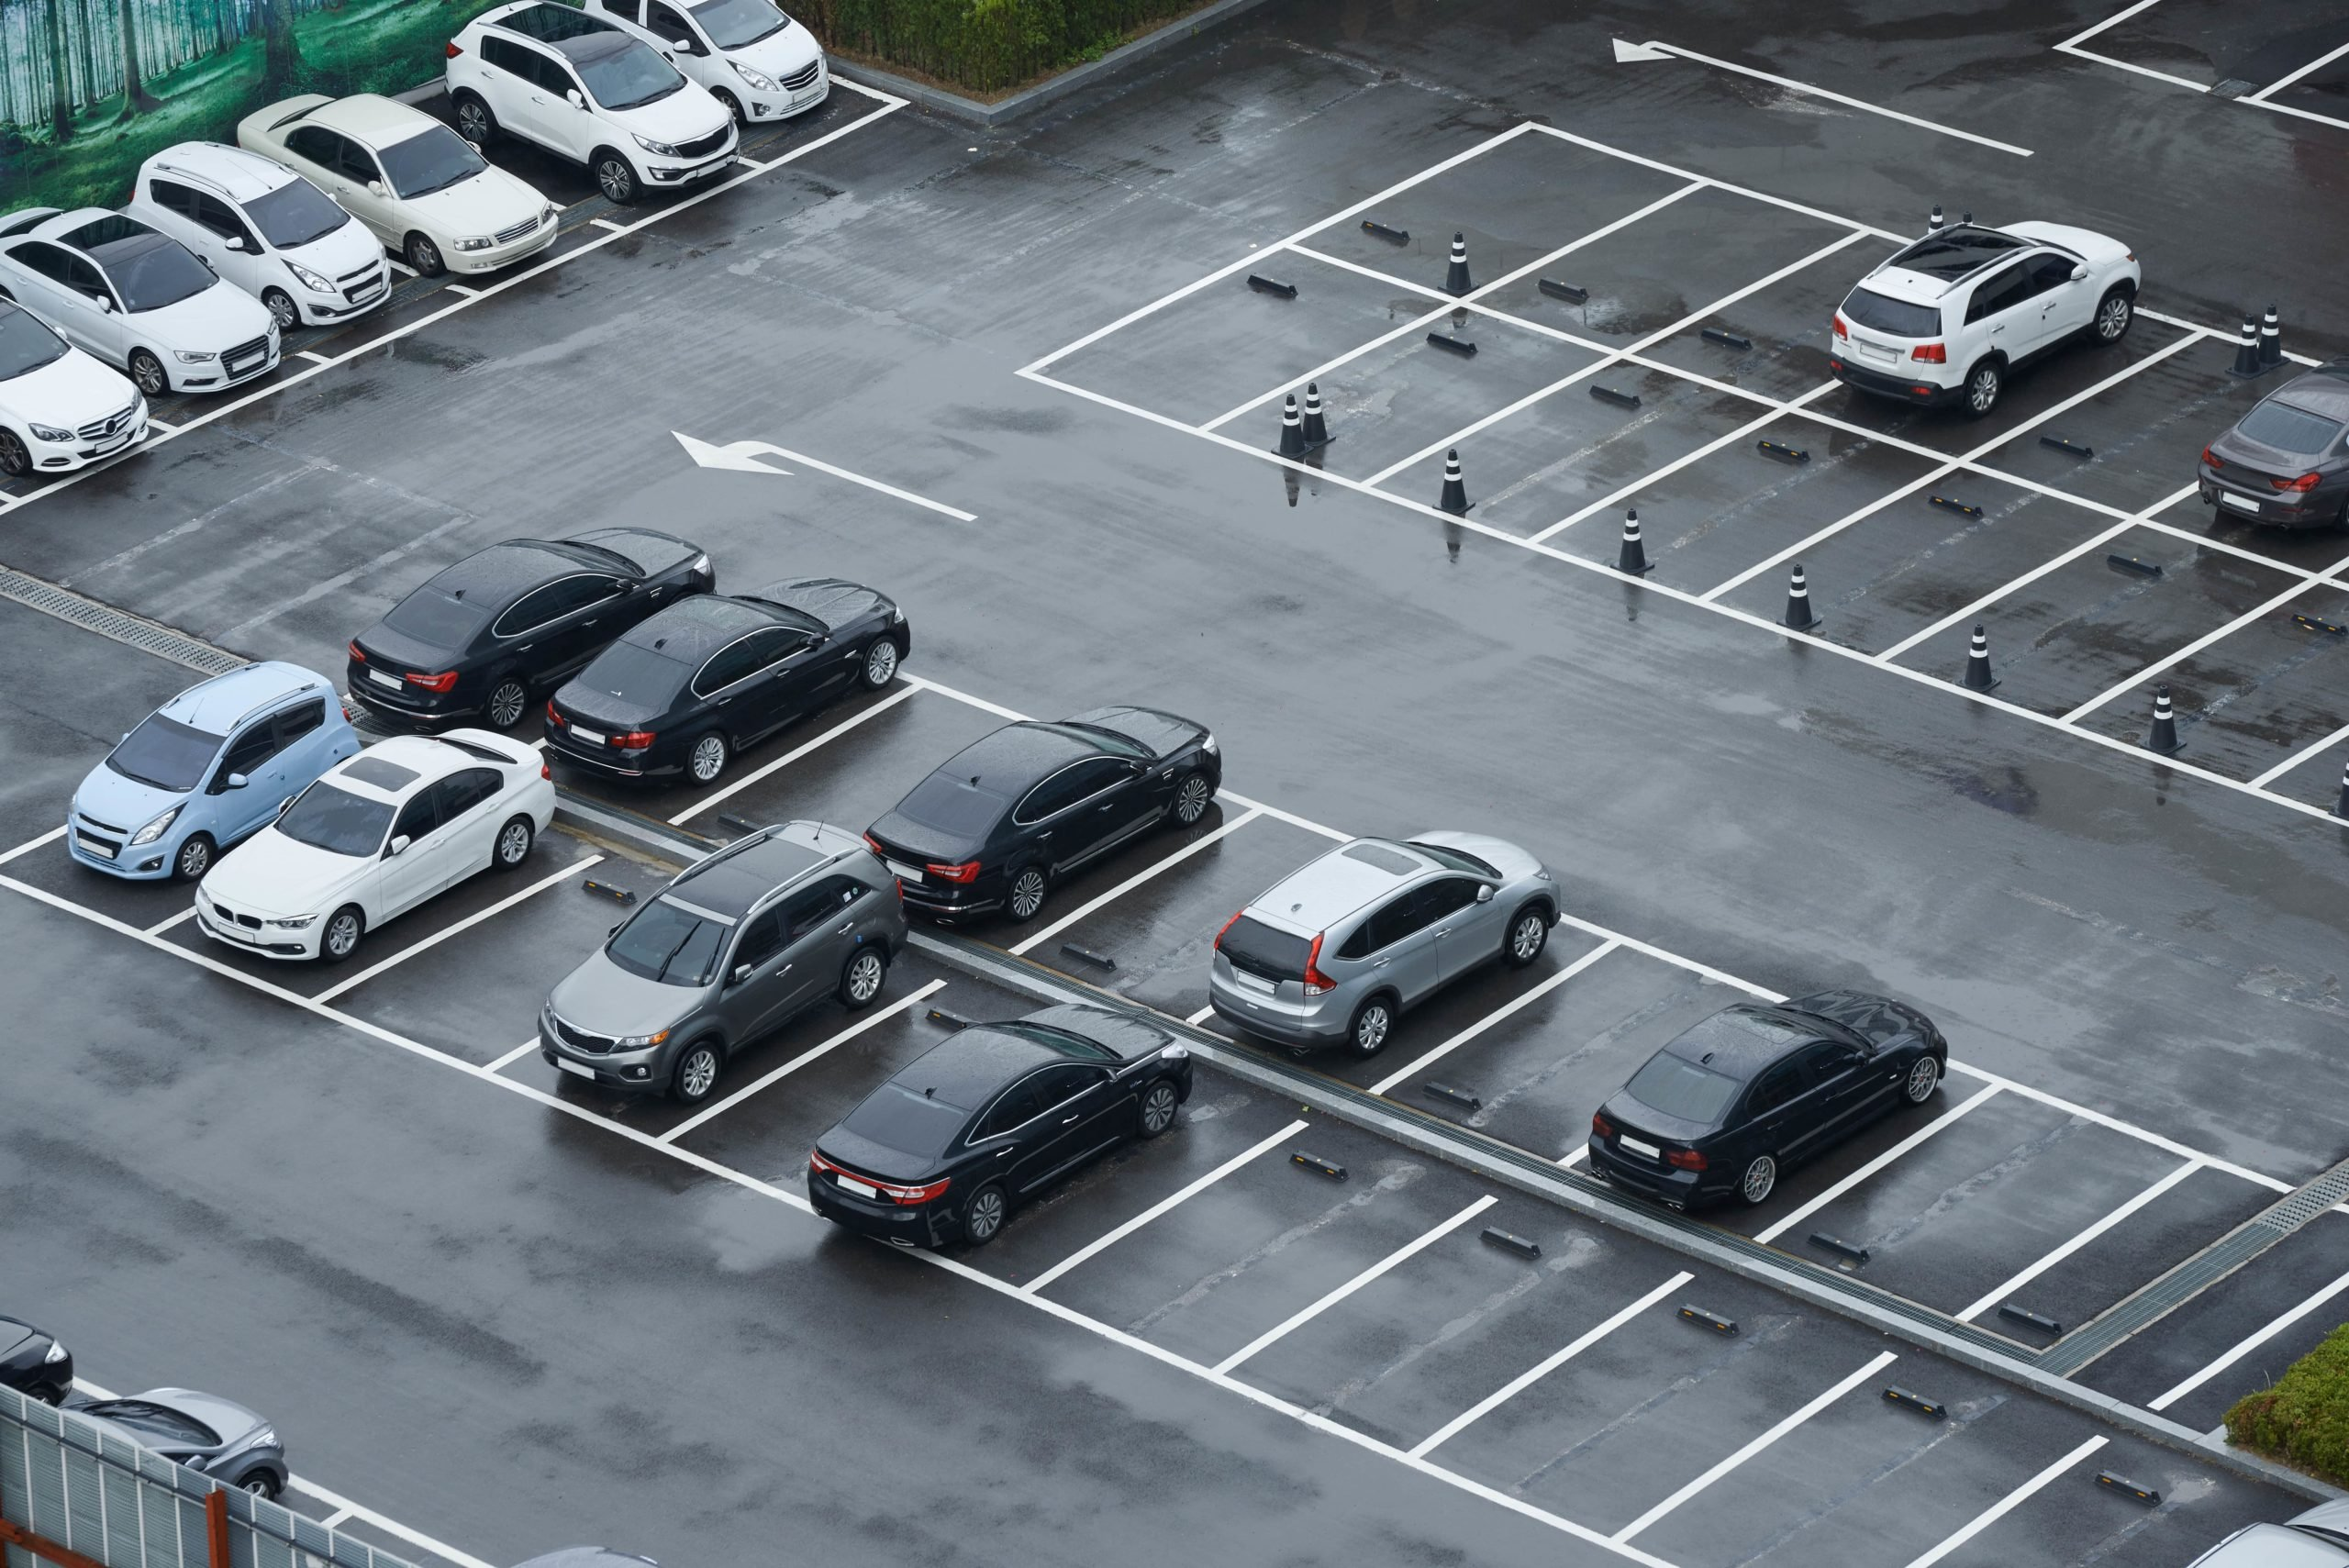Car: (537, 821, 910, 1104), (809, 1004, 1192, 1248), (196, 728, 553, 961), (1210, 833, 1561, 1057), (1589, 990, 1946, 1206), (863, 705, 1220, 920), (543, 579, 912, 784), (348, 527, 714, 728), (68, 663, 355, 879), (445, 0, 737, 205), (1833, 222, 2139, 416), (238, 96, 558, 275), (0, 206, 280, 394), (130, 143, 390, 329), (583, 0, 828, 122), (58, 1386, 289, 1501), (0, 299, 147, 476), (2200, 360, 2349, 530), (2188, 1498, 2349, 1568), (0, 1314, 74, 1405), (511, 1542, 660, 1568)
